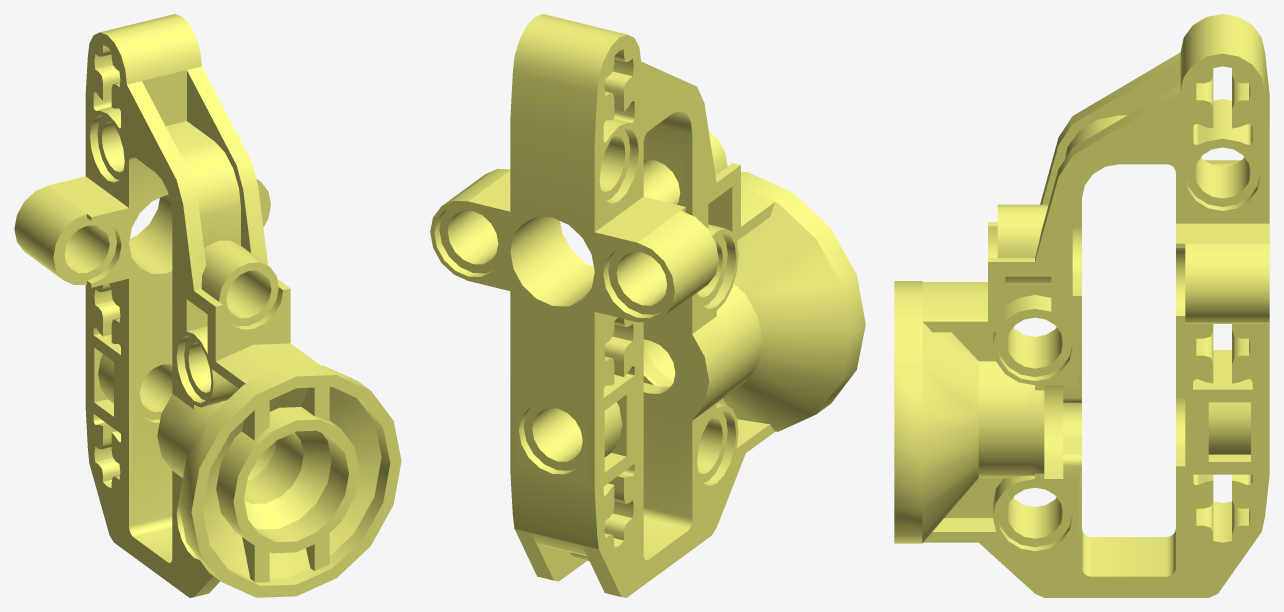
The picture shows the model from 3 angles, left to right: view 1: azimuth 30°, elevation 25°; view 2: azimuth 150°, elevation 25°; view 3: azimuth 270°, elevation 25°; orthographic projection. The views are drawn at different scales.
Parts seen in each view (by area): view 1: 92908.dat; view 2: 92908.dat; view 3: 92908.dat.
Boxes of the visible parts, x1,y1,x2,y2 form: 92908.dat: (14, 14, 401, 597); 92908.dat: (430, 14, 865, 597); 92908.dat: (894, 14, 1269, 597).
Bounding box in the file's own units: 0.0232 × 0.0512 × 0.032.
